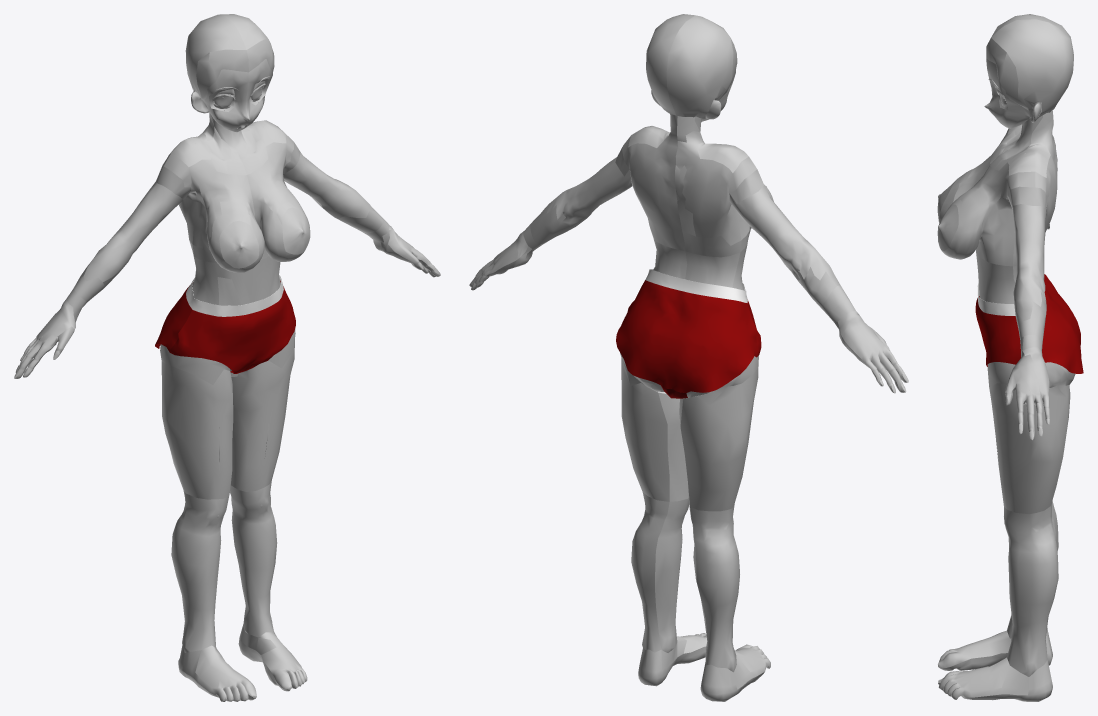
Rendered from bragas3.obj.
The picture shows the model from 3 angles, left to right: view 1: azimuth 30°, elevation 25°; view 2: azimuth 150°, elevation 25°; view 3: azimuth 270°, elevation 25°; orthographic projection. The views are drawn at different scales.
Bounding box in the file's own units: 1.29 × 1.89 × 0.3774.
